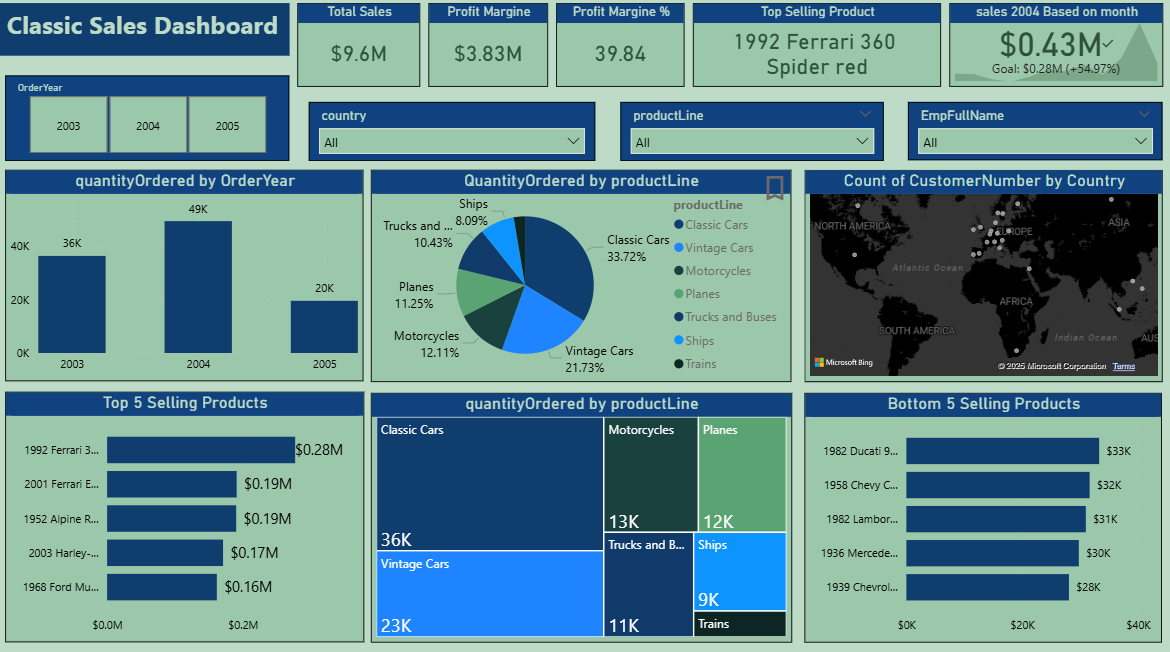

The dashboard page shown, as its layout file describes it:
{"tool":"powerbi","page":{"name":"Sales","canvas":[1280,720],"ordinal":0},"visuals":[{"type":"card","title":"Total Sales","fields":{"Values":["order_details.Sales"]},"box":[328.4,8.8,134.1,91.5],"z":0},{"type":"card","title":"Top Selling Product","fields":{"Values":["order_details.Most Ordered Product"]},"box":[759.6,8.8,270.7,91.5],"z":1000},{"type":"slicer","title":"Order Year","fields":{"Values":["orders.OrderYear"]},"box":[10,87.7,309.6,92.8],"z":2000},{"type":"card","title":"Profit Margine %","fields":{"Values":["Employees.Profit_Margin_%"]},"box":[610.4,8.8,140.4,91.5],"z":3000},{"type":"kpi","title":"sales 2004 Based on month","fields":{"Goal":["orders.Sales_2003"],"TrendLine":["orders.Month Name"],"Indicator":["orders.Sales_2004"]},"box":[1039.1,8.8,233.1,91.5],"z":4000},{"type":"clusteredColumnChart","title":" quantityOrdered by OrderYear","fields":{"Category":["orders.OrderYear"],"Y":["order_details.quantityOrdered"]},"box":[10.6,190.6,390.6,230.6],"z":5000},{"type":"pieChart","title":" QuantityOrdered by productLine","fields":{"Category":["productlines.productLine"],"Y":["order_details.quantityOrdered"]},"box":[408.9,190.6,457.9,231.1],"z":6000},{"type":"barChart","title":"Top 5 Selling Products","fields":{"Y":["order_details.Sales"],"Category":["products.productName"]},"box":[10,432.4,391.1,273.2],"z":7000},{"type":"card","title":"Profit Margine","fields":{"Values":["order_details.Total_Profit"]},"box":[471.3,8.8,130.4,91.5],"z":8000},{"type":"slicer","fields":{"Values":["Employees.country"]},"box":[340.9,116.6,312.1,63.9],"z":9000},{"type":"slicer","fields":{"Values":["Employees.EmpFullName"]},"box":[994.1,116.5,277.6,63.5],"z":10000},{"type":"slicer","fields":{"Values":["products.productLine"]},"box":[680.6,116.6,287,63.9],"z":11000},{"type":"map","title":"Count of CustomerNumber by Country","fields":{"Category":["customers.country"]},"box":[880.6,190.6,390.8,231.1],"z":12000},{"type":"treemap","title":" quantityOrdered by productLine","fields":{"Group":["products.productLine"],"Values":["order_details.quantityOrdered"]},"box":[408.6,433.7,458.7,272],"z":13000},{"type":"barChart","title":"Bottom 5 Selling Products","fields":{"Y":["order_details.Sales"],"Category":["products.productName"]},"box":[881.1,433.7,389.8,272],"z":14000},{"type":"actionButton","box":[831.2,190.3,35.5,39.8],"z":16000},{"type":"textbox","box":[0,8.8,319.6,57.7],"z":16001}]}

Visuals, with their boxes in screenshot pixels (x1, y1, x2, y2), scaled from the page's 1280x720 canvas onto the 1170x652 screenshot:
"Total Sales" card: (300,8,423,91)
"Top Selling Product" card: (694,8,942,91)
"Order Year" slicer: (9,79,292,163)
"Profit Margine %" card: (558,8,686,91)
"sales 2004 Based on month" kpi: (950,8,1163,91)
" quantityOrdered by OrderYear" clusteredColumnChart: (10,173,367,381)
" QuantityOrdered by productLine" pieChart: (374,173,792,382)
"Top 5 Selling Products" barChart: (9,392,367,639)
"Profit Margine" card: (431,8,550,91)
slicer - Employees.country: (312,106,597,163)
slicer - Employees.EmpFullName: (909,105,1162,163)
slicer - products.productLine: (622,106,884,163)
"Count of CustomerNumber by Country" map: (805,173,1162,382)
" quantityOrdered by productLine" treemap: (373,393,793,639)
"Bottom 5 Selling Products" barChart: (805,393,1162,639)
actionButton: (760,172,792,208)
textbox: (0,8,292,60)
